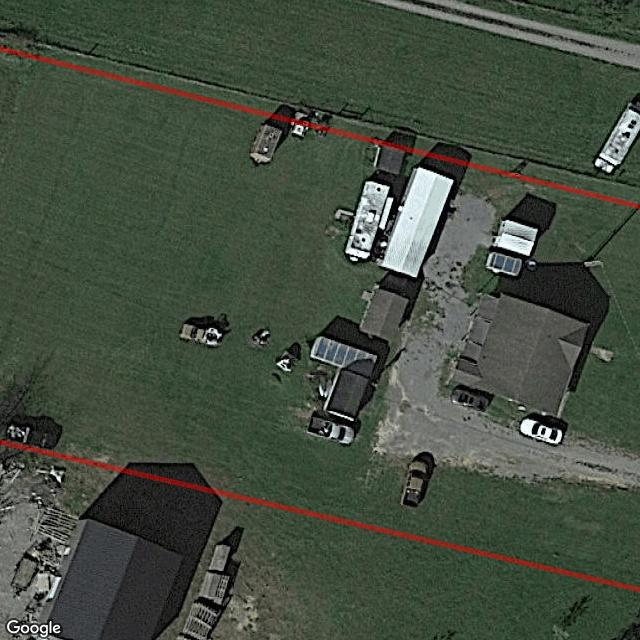Driveway: (373, 195, 638, 487)
House: (455, 293, 591, 419)
Other: (381, 166, 454, 277), (310, 335, 380, 421), (335, 180, 394, 261), (360, 286, 409, 341), (492, 219, 539, 256), (250, 123, 285, 164), (373, 146, 406, 174)
